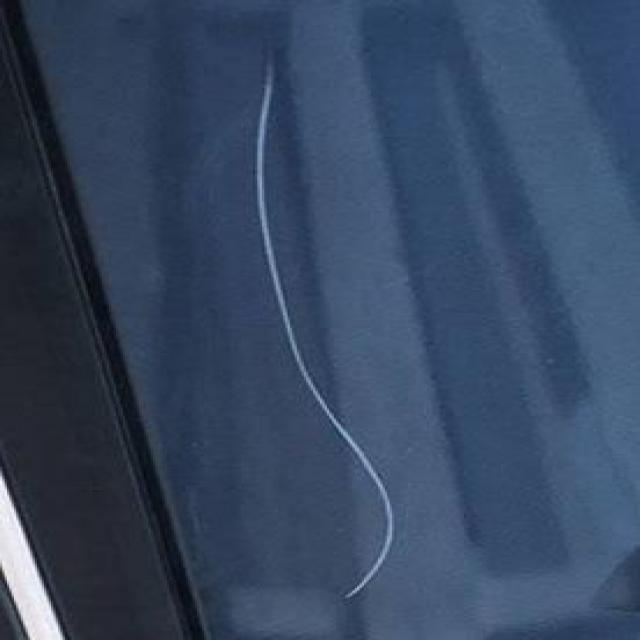scratch: (241, 52, 406, 604)
